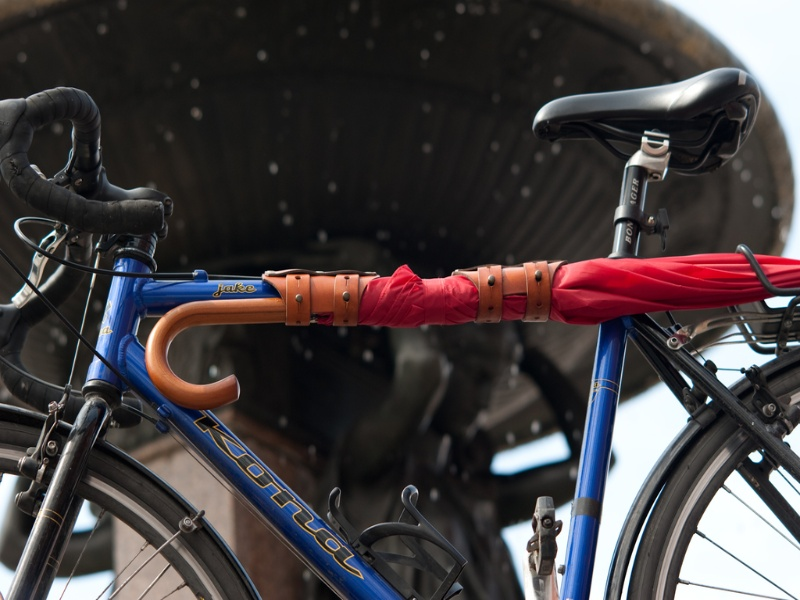bicycle: (1, 74, 795, 600)
